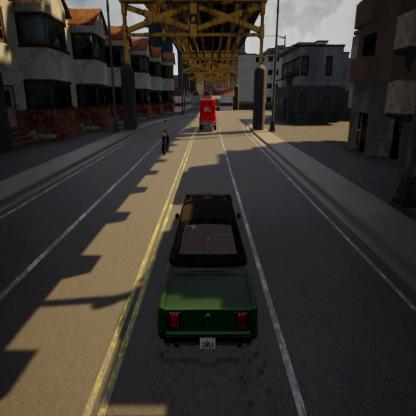Cars: (158, 186, 264, 358), (195, 92, 220, 134)
